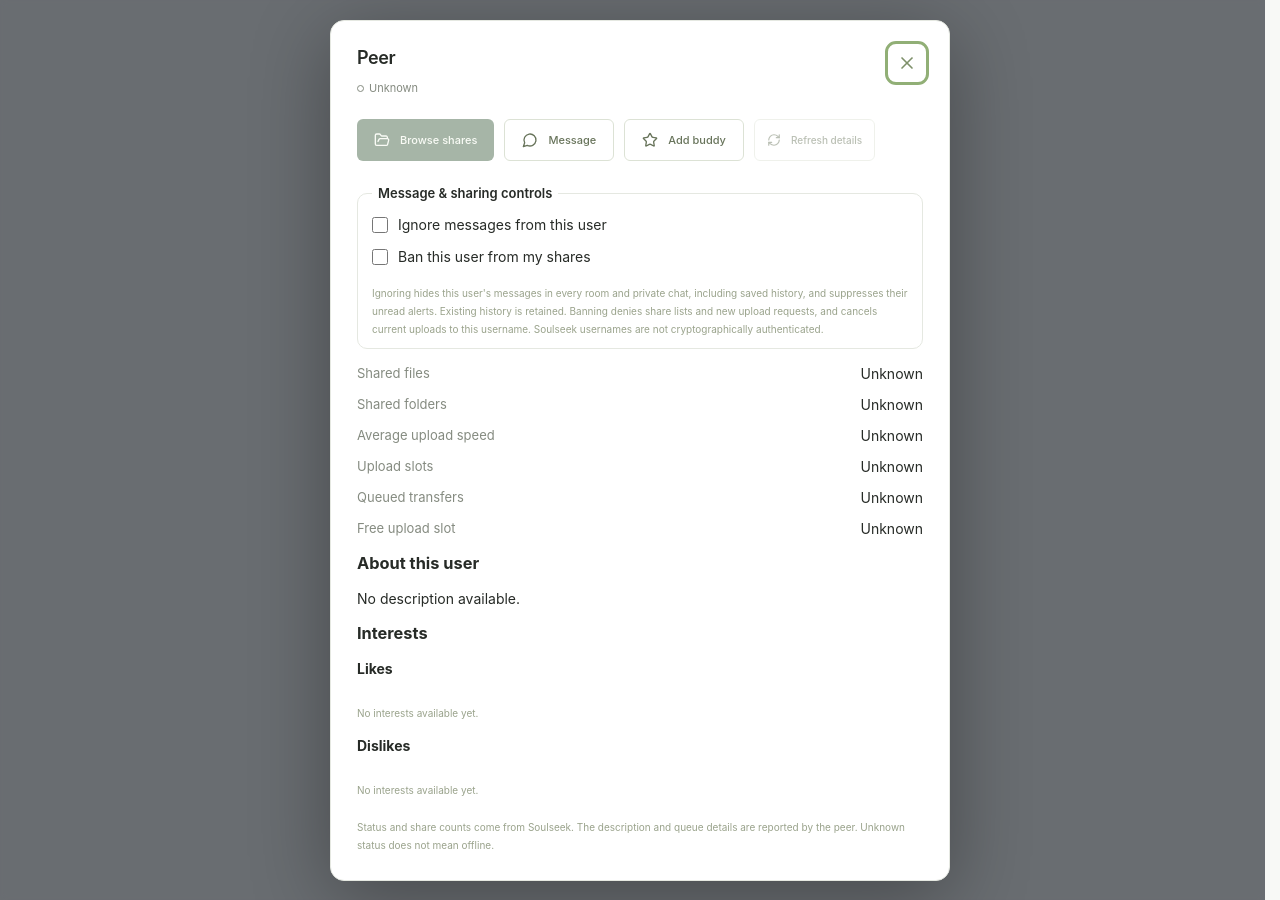
does not treat a queued rule as confirmed when no daemon update arrives
Later steps or results of the test are not shown.
Click the checkbox labelled "Ignore messages from this user": point(380, 224) [372,216,388,232]
Wait 8001 ms
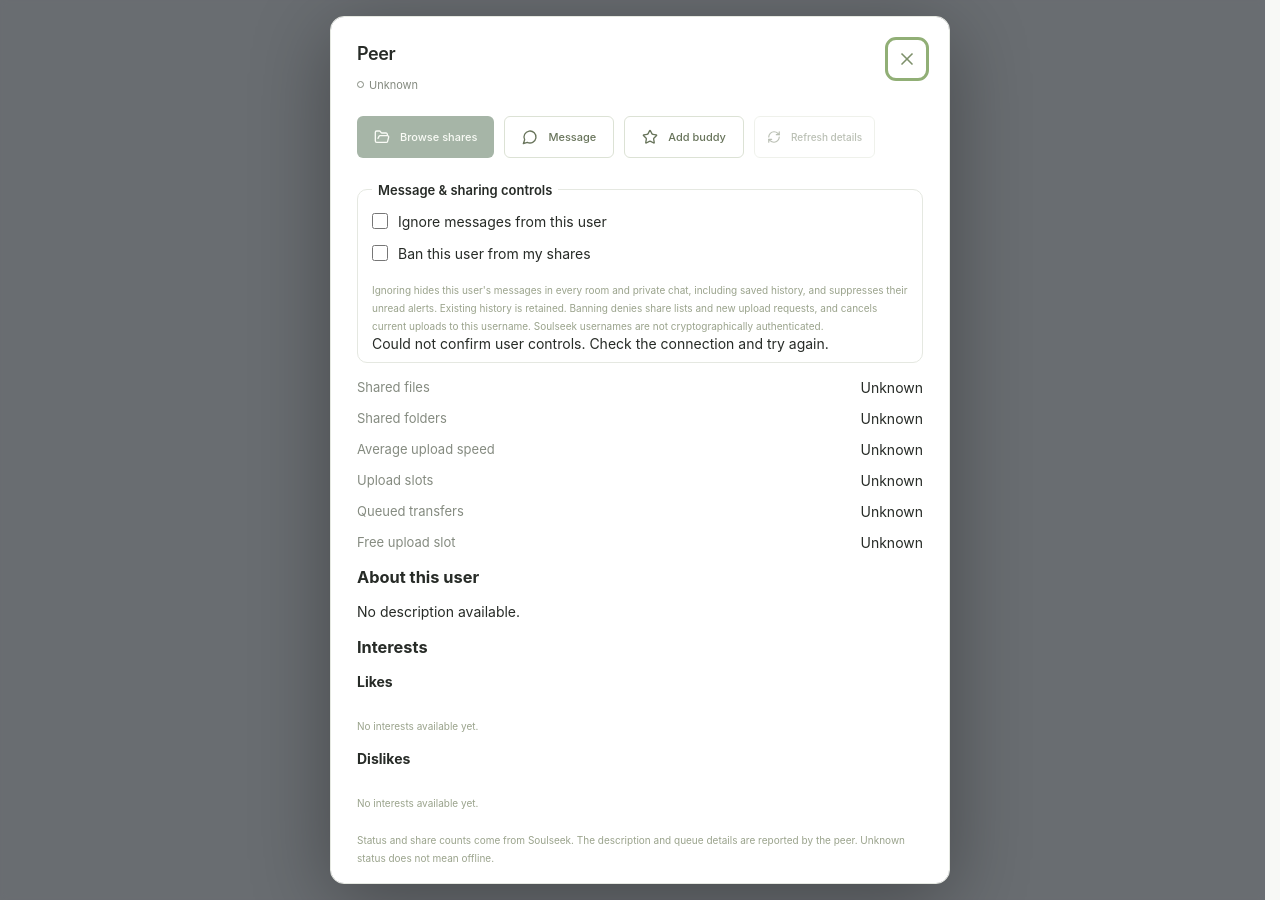
Check: the message shows "Could not confirm user controls", box [372,334,829,352]
